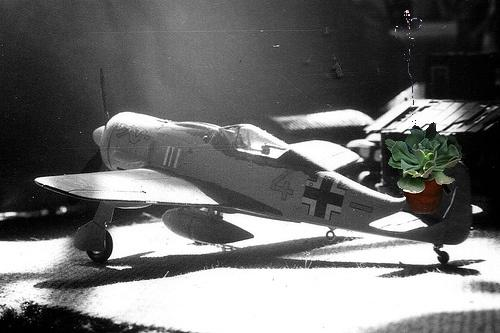tampered: (386, 11, 462, 214)
